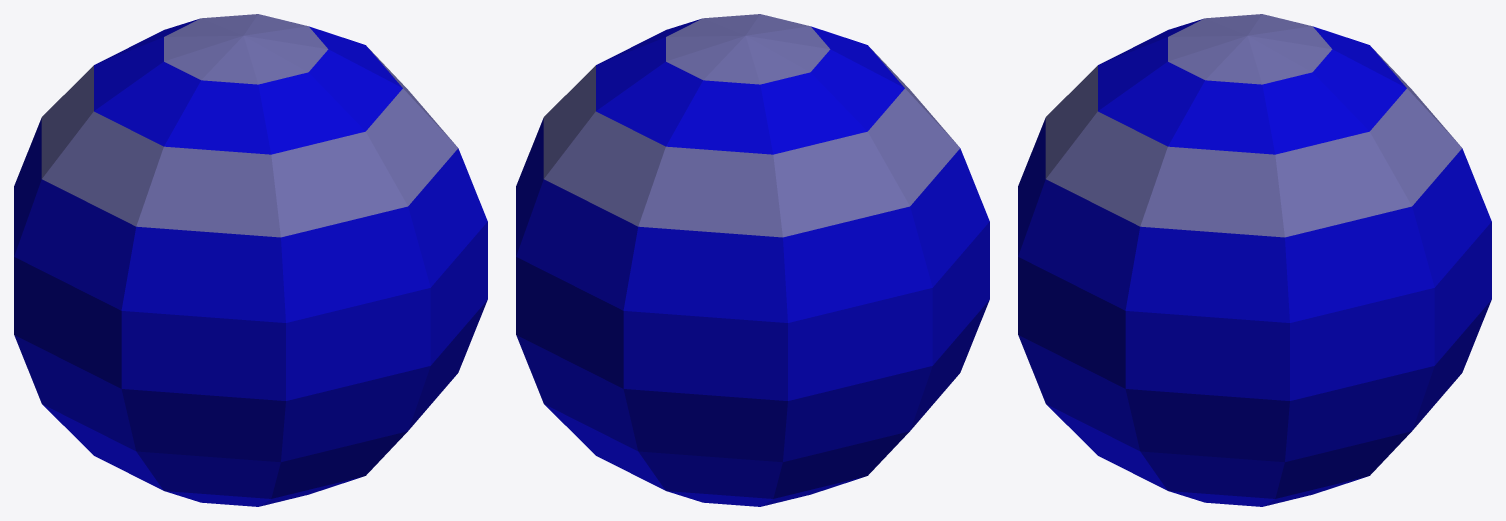
Rendered from Part1 BluePlayer.fbx.
3 renders of one model, left to right at view 1: azimuth 30°, elevation 25°; view 2: azimuth 150°, elevation 25°; view 3: azimuth 270°, elevation 25°, orthographic.
Parts seen in each view (by area): view 1: BluePlayer; view 2: BluePlayer; view 3: BluePlayer.
Part boxes in pixels (bbox=[...]): BluePlayer: bbox=[14, 14, 487, 506]; BluePlayer: bbox=[516, 14, 989, 506]; BluePlayer: bbox=[1018, 14, 1491, 506].
Size of the model in its own units: 67.89 by 70 by 66.86.
